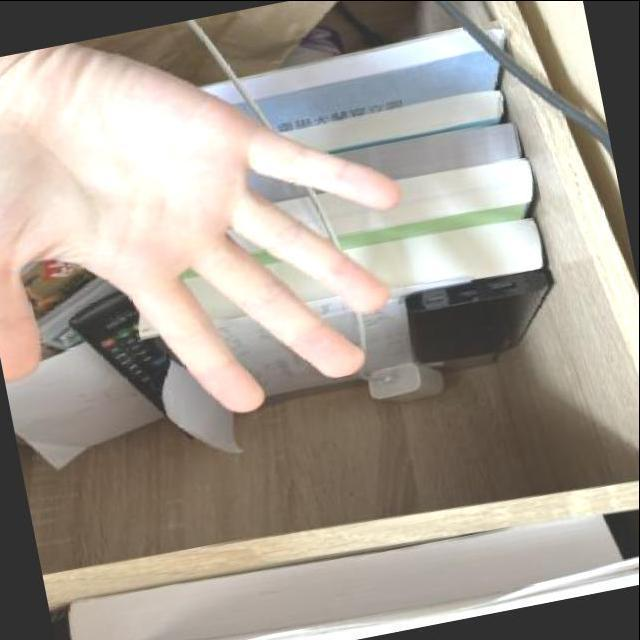hand: (0, 0, 447, 474)
